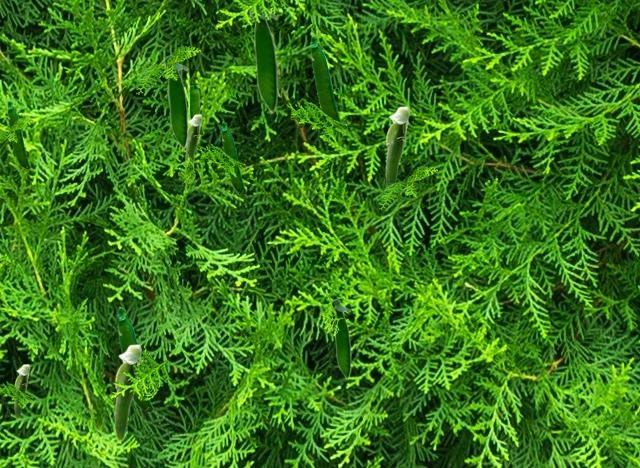pea: (117, 306, 152, 411), (249, 4, 277, 115), (310, 35, 341, 121), (114, 344, 141, 440), (163, 55, 187, 150), (385, 106, 409, 184), (221, 121, 245, 193), (7, 100, 29, 168), (332, 298, 350, 380), (14, 364, 29, 418), (185, 114, 201, 160), (190, 85, 202, 134)
